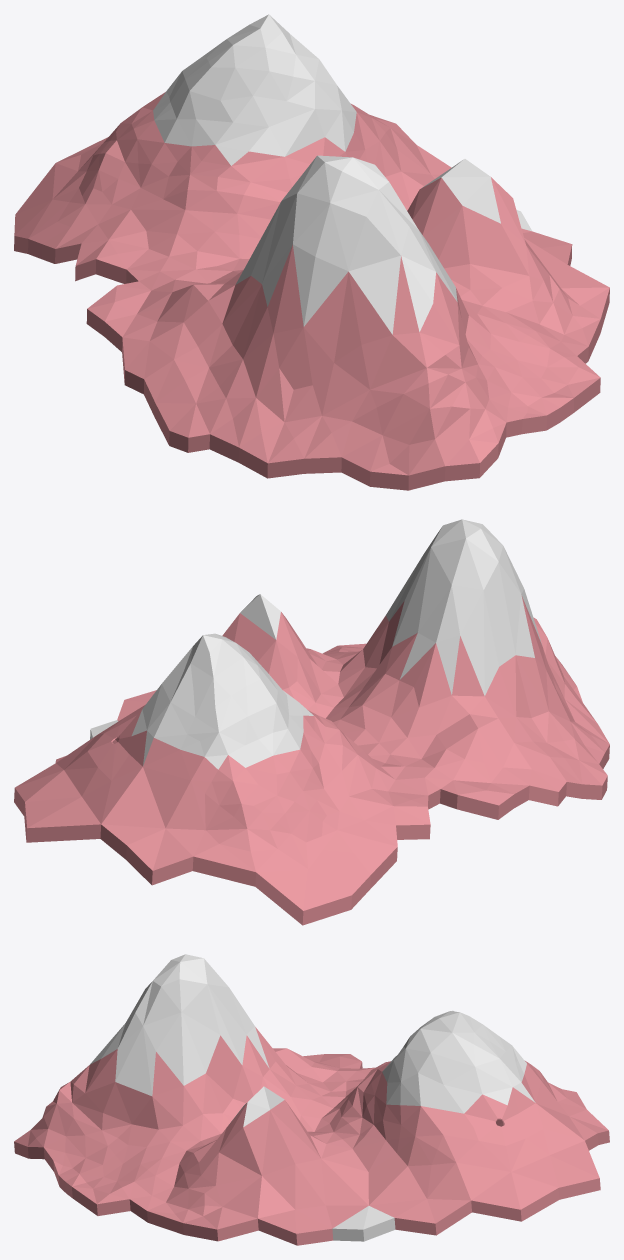
File: huiTerrain1_02.fbx
3 views of the same model, one above another, from view 1: azimuth 30°, elevation 25°; view 2: azimuth 150°, elevation 25°; view 3: azimuth 270°, elevation 25° (orthographic). The views are drawn at different scales.
Visible parts, largest first — view 1: Icosphere.001; view 2: Icosphere.001; view 3: Icosphere.001.
Boxes of the visible parts, x1,y1,x2,y2 form: Icosphere.001: [14, 14, 609, 490]; Icosphere.001: [14, 519, 609, 925]; Icosphere.001: [14, 954, 609, 1245].
Size of the model in its own units: 1063 by 573 by 1560.
